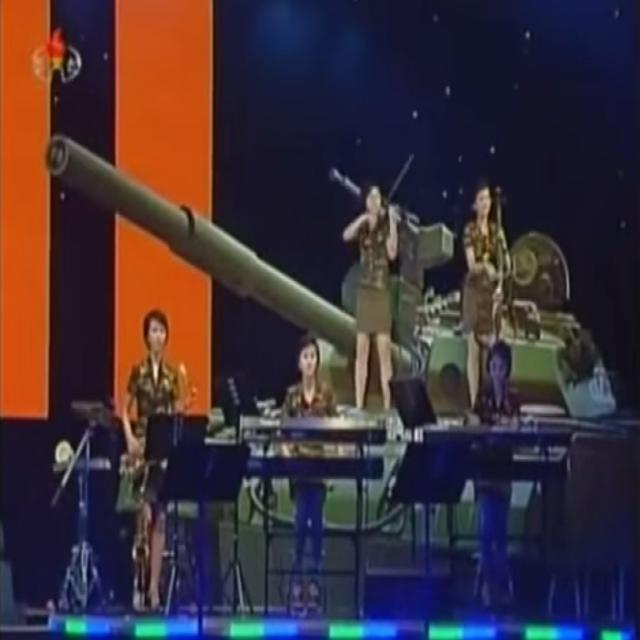north tank: (31, 104, 640, 571)
